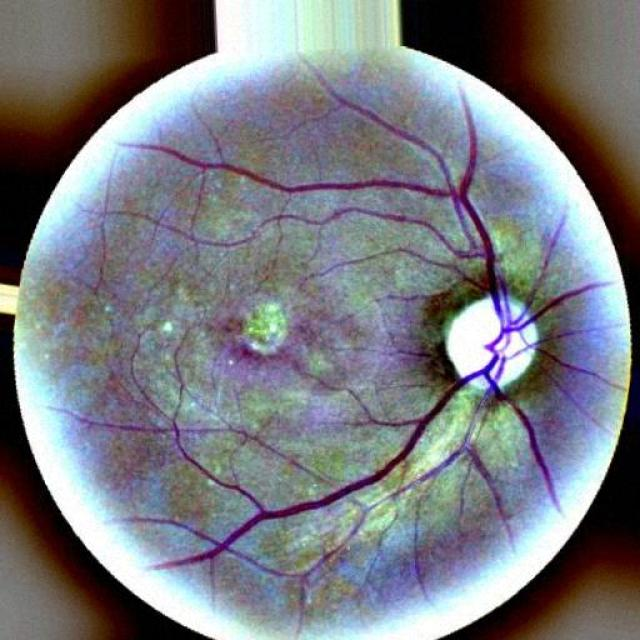Macula: (217, 301, 298, 370)
Nerves: (167, 355, 502, 567), (168, 155, 507, 314), (346, 342, 438, 362)
Optic Disk: (434, 293, 547, 398)
